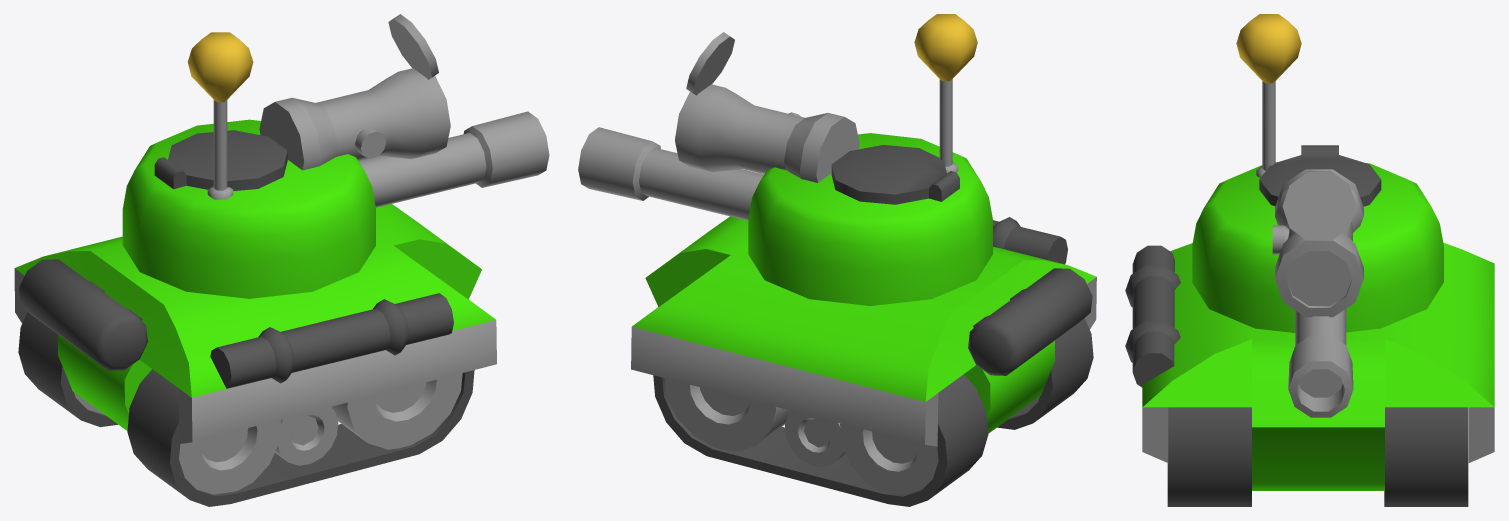
Rendered from Tank3_w.fbx.
The picture shows the model from 3 angles, left to right: view 1: azimuth 30°, elevation 25°; view 2: azimuth 150°, elevation 25°; view 3: azimuth 270°, elevation 25°; orthographic projection. The views are drawn at different scales.
Visible parts, largest first — view 1: Tank_03, Tank_Top_03, Log_1, Antenna_2; view 2: Tank_03, Tank_Top_03, Antenna_2, Log_1; view 3: Tank_03, Tank_Top_03, Log_1, Antenna_2.
Part boxes in pixels (<box>): Tank_03: <box>14,204,496,506</box>; Tank_Top_03: <box>122,14,549,298</box>; Log_1: <box>210,293,453,388</box>; Antenna_2: <box>187,32,253,199</box>; Tank_03: <box>631,216,1096,506</box>; Tank_Top_03: <box>578,32,992,305</box>; Antenna_2: <box>914,14,977,173</box>; Log_1: <box>993,217,1067,264</box>; Tank_03: <box>1142,242,1494,506</box>; Tank_Top_03: <box>1192,145,1443,417</box>; Log_1: <box>1125,245,1180,387</box>; Antenna_2: <box>1236,14,1301,177</box>.
Size of the model in its own units: 72.81 by 60.61 by 48.94.
